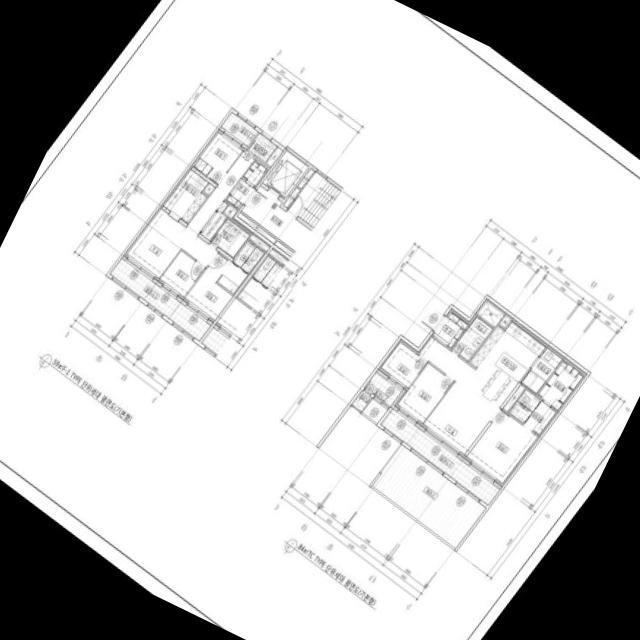background: (0, 0, 640, 640)
space_balconi: (380, 408, 499, 505), (109, 258, 210, 341), (363, 372, 401, 407), (220, 112, 258, 146)
space_bedroom: (464, 410, 537, 485), (395, 363, 453, 425), (183, 253, 232, 322), (191, 129, 243, 184), (379, 342, 426, 390), (158, 251, 204, 299)
space_elevator: (262, 150, 308, 199)
space_elevator_hall: (241, 186, 311, 251)
space_front: (433, 311, 468, 349), (225, 178, 254, 209)
space_kitchen: (469, 322, 545, 408), (161, 168, 207, 223)
space_living_room: (123, 149, 255, 280), (418, 337, 499, 457)
space_other: (537, 360, 583, 410), (520, 348, 562, 394), (236, 212, 276, 243), (523, 401, 555, 435), (242, 158, 269, 186), (200, 211, 226, 240), (476, 301, 503, 327), (502, 385, 524, 411), (249, 233, 270, 251), (297, 169, 314, 189), (274, 240, 294, 257), (265, 147, 282, 166), (283, 188, 299, 208), (223, 205, 237, 219), (498, 315, 510, 328), (203, 183, 214, 195)
space_outdoor_room: (247, 133, 276, 162), (351, 390, 371, 411)
space_staircase: (287, 172, 340, 228)
space_toilet: (217, 241, 263, 294), (452, 316, 493, 362), (210, 219, 249, 257), (508, 389, 540, 423)
